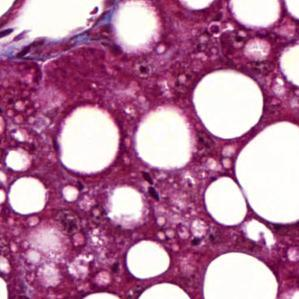steatosis: (194, 68, 264, 140), (202, 250, 279, 299)
